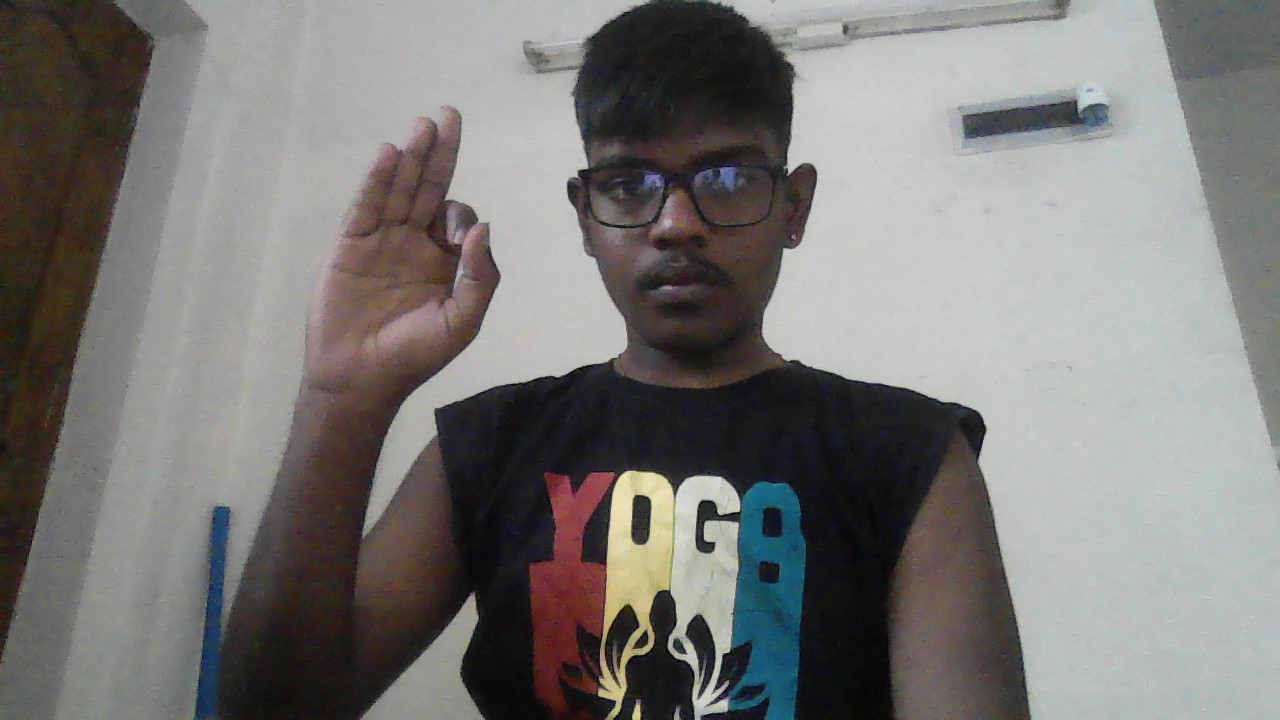F: (303, 108, 501, 395)
